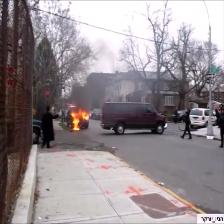fire: (66, 103, 95, 134)
